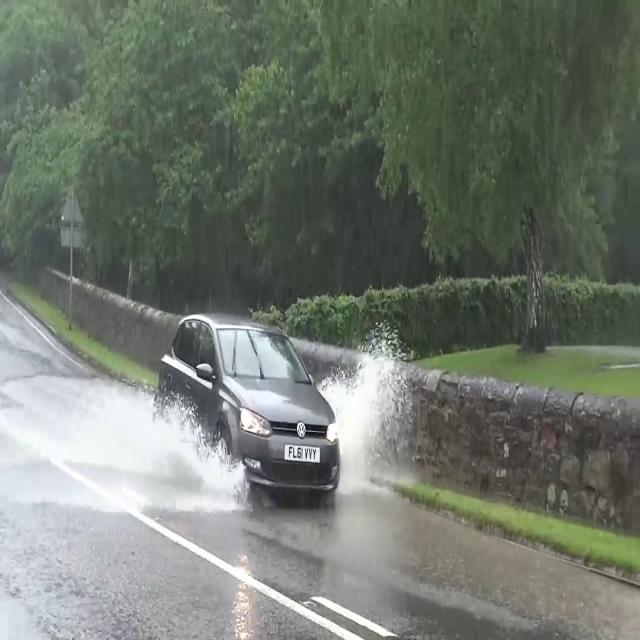license-plate-annotation: (284, 440, 325, 468)
